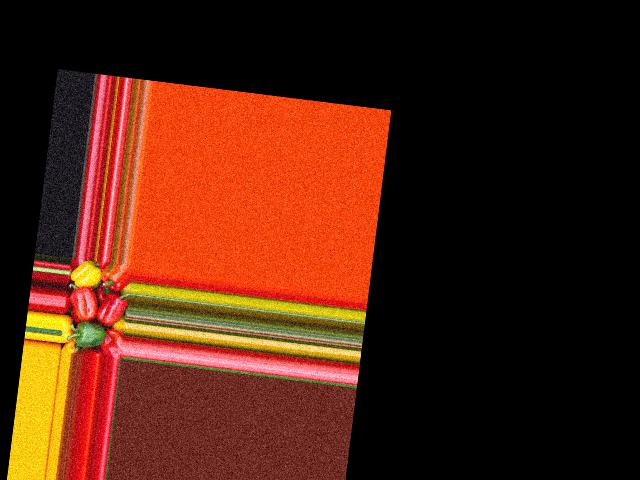bell_pepper: (67, 258, 105, 291)
